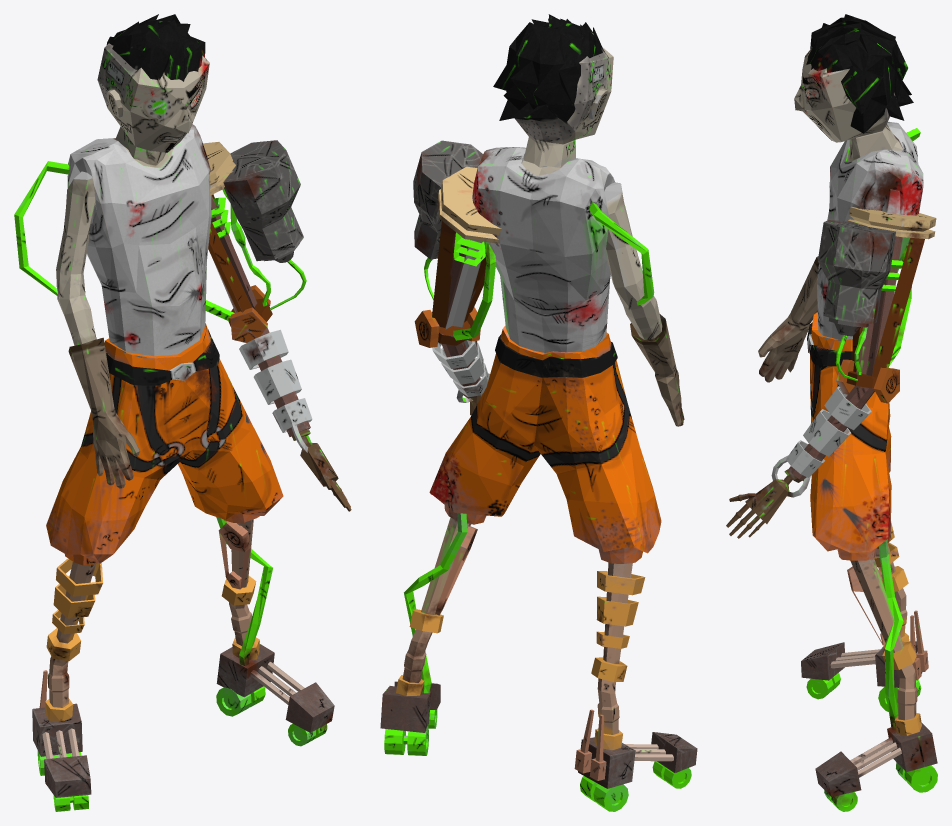
Rendered from CyborgFINALAnimation_000039.obj.
3 views of the same model, side by side, from view 1: azimuth 30°, elevation 25°; view 2: azimuth 150°, elevation 25°; view 3: azimuth 270°, elevation 25° (orthographic). The views are drawn at different scales.
Parts seen in each view (by area): view 1: CyborgMesh_Cube.002; view 2: CyborgMesh_Cube.002; view 3: CyborgMesh_Cube.002.
Boxes of the visible parts, <box> form: CyborgMesh_Cube.002: <box>14,14,351,811</box>; CyborgMesh_Cube.002: <box>380,14,697,811</box>; CyborgMesh_Cube.002: <box>726,14,937,811</box>.
Size of the model in its own units: 3.84 by 9.67 by 2.58.
